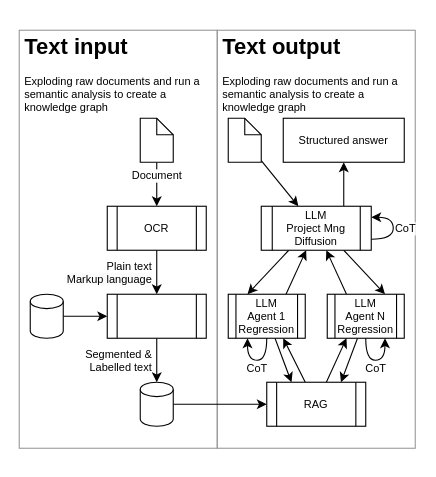
Image size: 436x477. Some labels were removed from this diagram. Here are the shapes that lost their labels. From the top down, the centre of each, then its label:
At pixel 244 139: "Prompt".
At pixel 46 315: "Thésaurus".
At pixel 156 315: "LLM".
At pixel 156 403: "Knowledge Graph".
